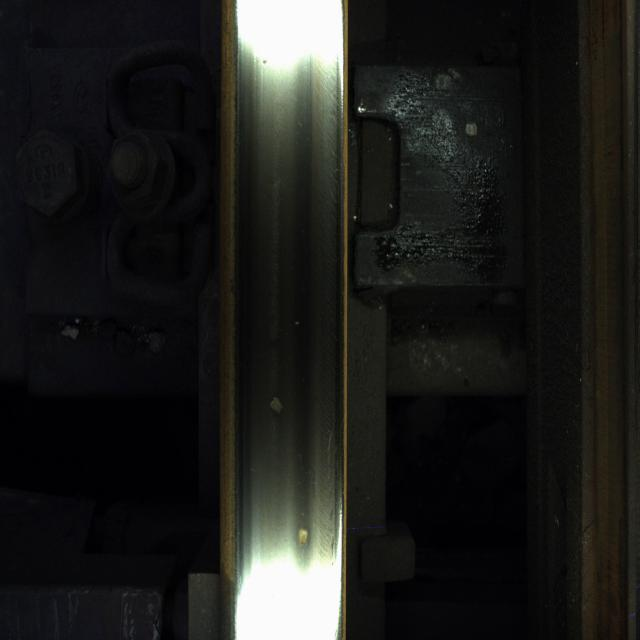break: (252, 40, 338, 555)
